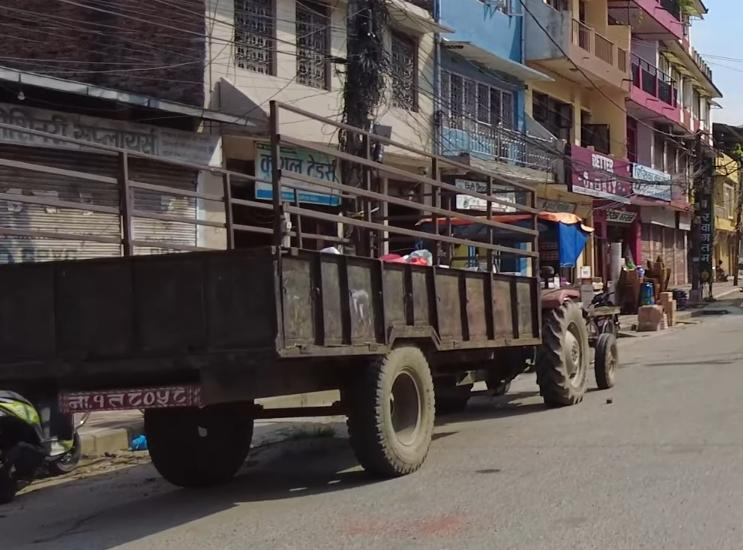tractor: (0, 92, 625, 485)
